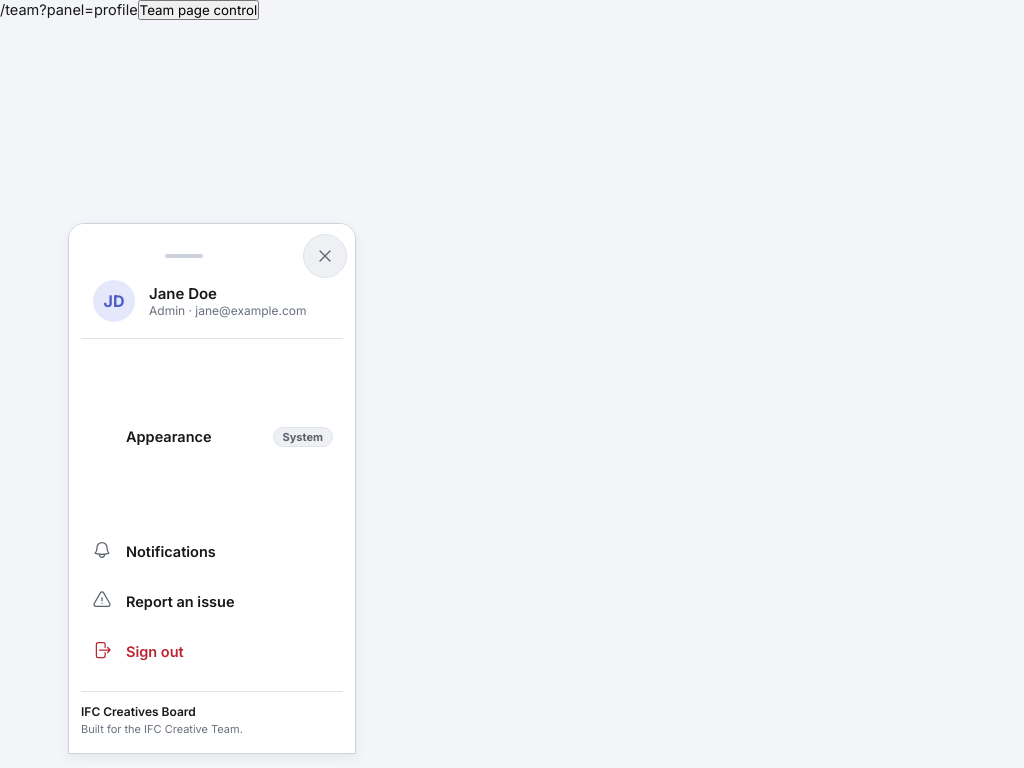
Profile menu — explicit close › clicking Close removes ?panel, unmounts the dialog, and releases inert + body lock
Step 1. Click the button named "Close profile menu" → (325, 256), box x1=303 y1=234 x2=347 y2=278
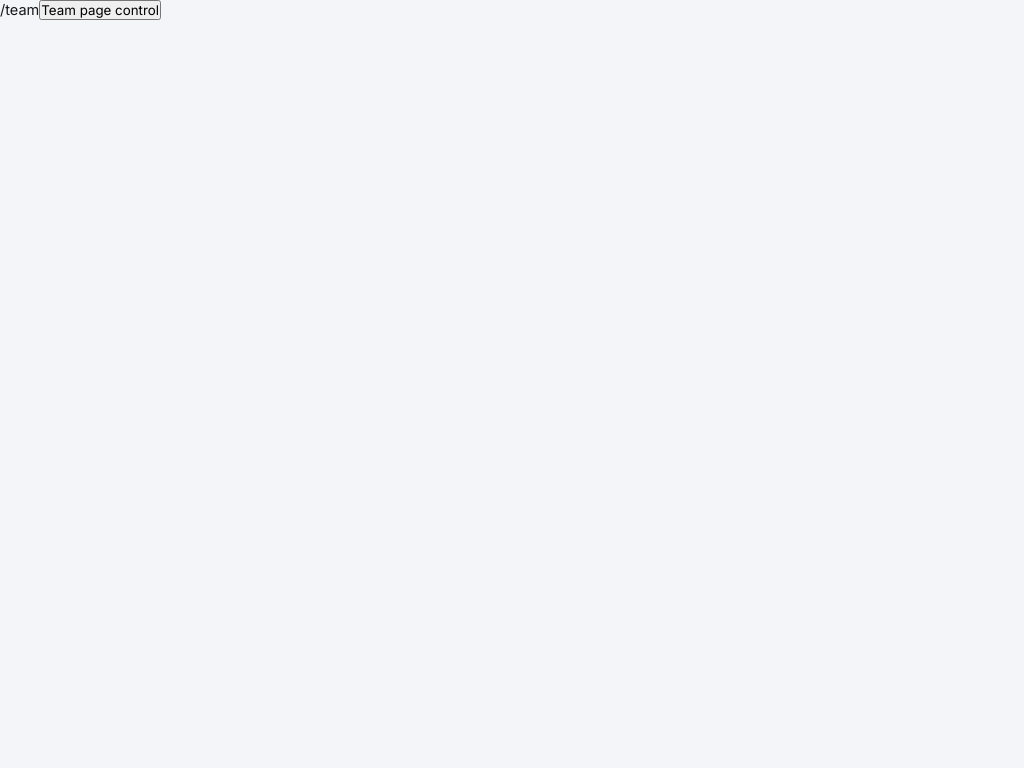
Now the text with test id "loc" reads "/team", box x1=0 y1=1 x2=39 y2=18
